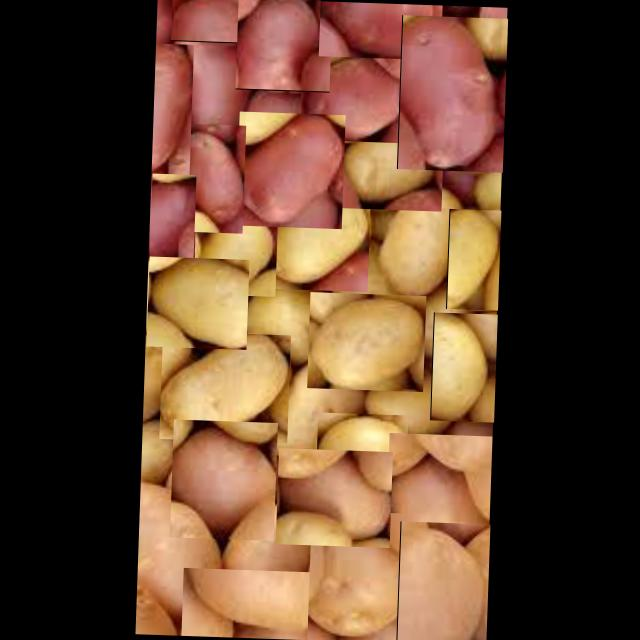Defected potato: (396, 14, 506, 172), (306, 509, 418, 640), (135, 470, 223, 620), (168, 418, 276, 540), (180, 567, 358, 640), (234, 111, 344, 229), (274, 448, 392, 548), (395, 521, 489, 640), (164, 18, 252, 136), (298, 53, 412, 143), (234, 0, 331, 92), (177, 123, 245, 233), (317, 0, 441, 60), (150, 43, 192, 180), (148, 174, 195, 266), (169, 0, 265, 43)
Diseased-fungal potato: (384, 432, 492, 566)
Potato: (158, 330, 290, 442), (306, 292, 425, 392), (266, 186, 370, 292), (375, 181, 465, 300), (334, 118, 443, 212), (258, 359, 360, 456), (145, 256, 248, 349), (192, 208, 277, 296), (428, 312, 496, 422), (314, 412, 407, 489), (240, 278, 322, 356), (366, 371, 452, 439), (444, 208, 500, 310)
